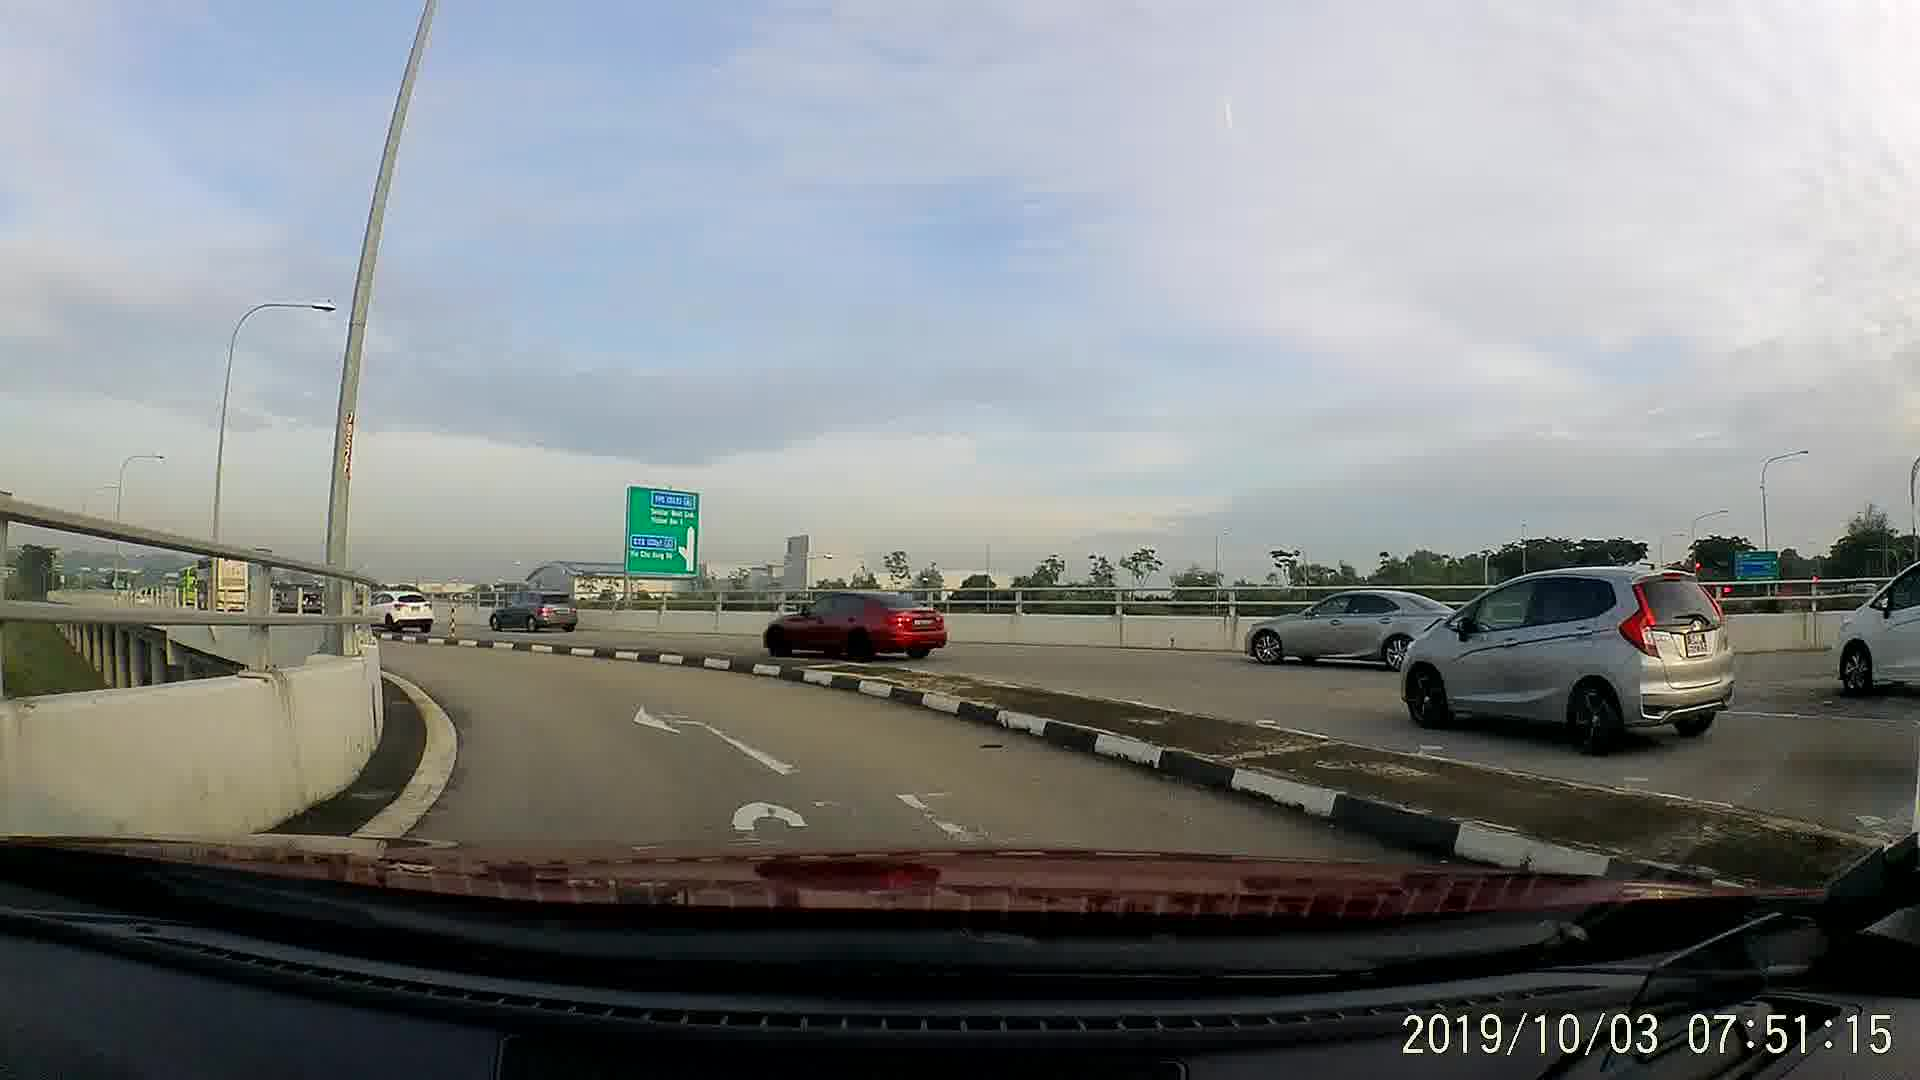car: (1400, 564, 1737, 742), (744, 579, 947, 667), (1224, 593, 1449, 670), (1830, 559, 1919, 694), (483, 580, 587, 644), (371, 580, 434, 632)
